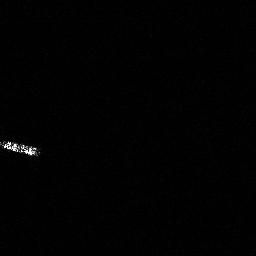ship: (1, 136, 41, 160)
